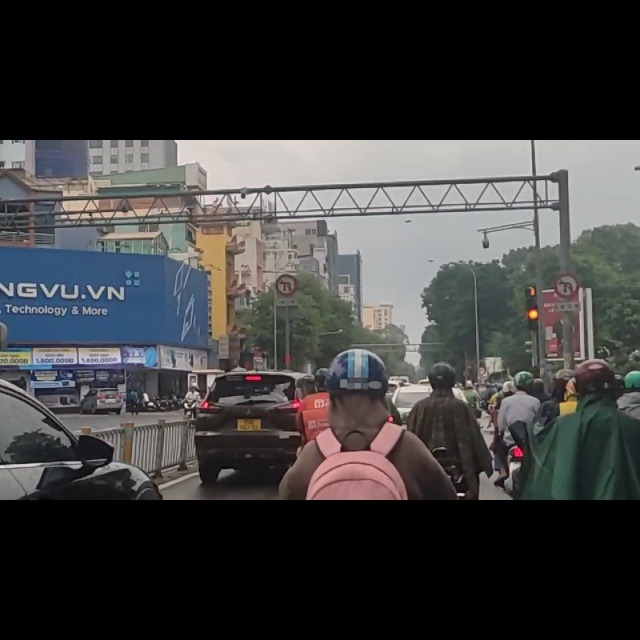bien_cam: (276, 237, 299, 277), (555, 242, 577, 281)
